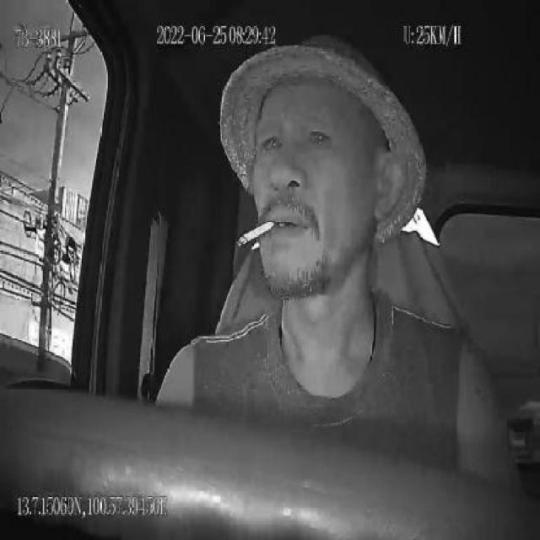smoking: (237, 219, 276, 250)
